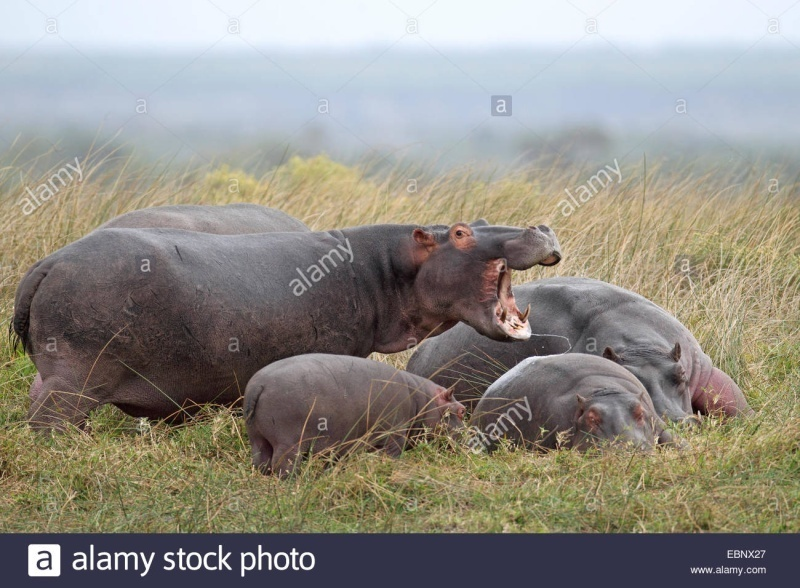hipopotamo: (19, 197, 562, 416), (471, 273, 762, 424), (248, 353, 469, 476), (480, 355, 665, 454)
